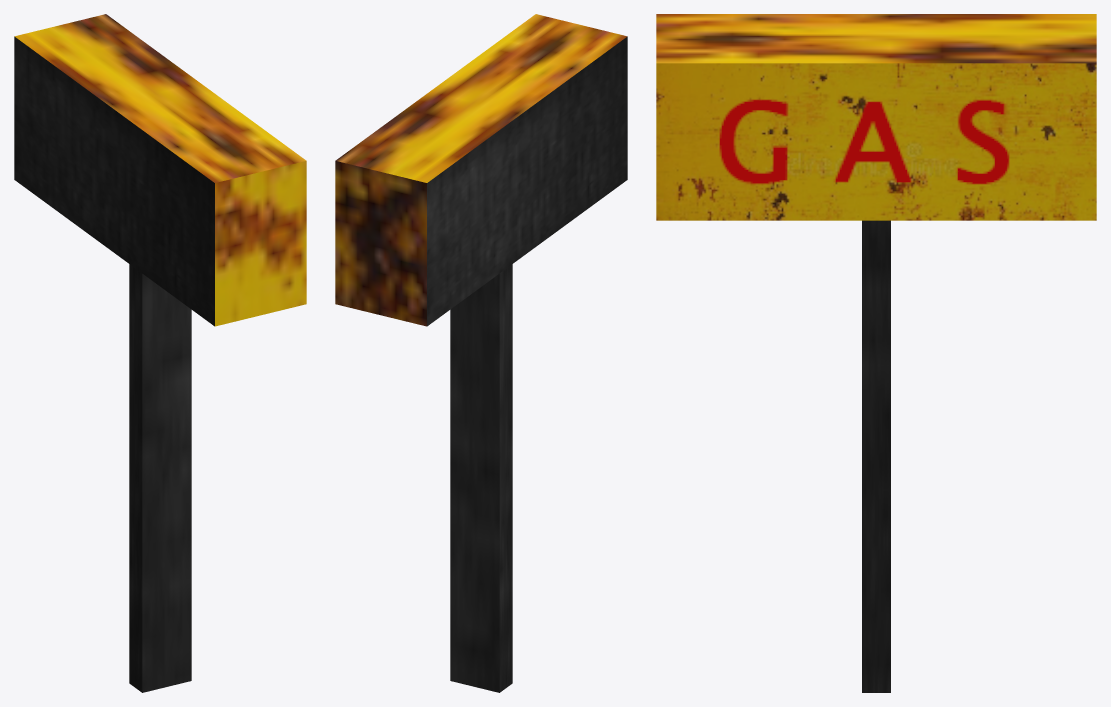
The model's file is Sign.fbx.
3 renders of one model, left to right at view 1: azimuth 30°, elevation 25°; view 2: azimuth 150°, elevation 25°; view 3: azimuth 270°, elevation 25°, orthographic. The views are drawn at different scales.
Parts seen in each view (by area): view 1: Cube; view 2: Cube; view 3: Cube.
Part boxes in pixels (x1=…): Cube: x1=14, y1=14, x2=306, y2=692; Cube: x1=335, y1=14, x2=627, y2=692; Cube: x1=656, y1=14, x2=1096, y2=692.
Size of the model in its own units: 372 by 2260 by 1408.
Materials: 1 (1 with a texture image).
